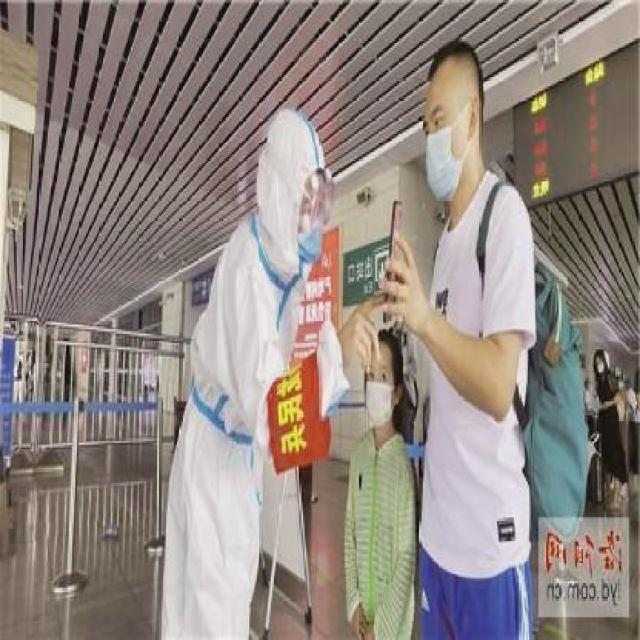face_mask: (410, 82, 476, 206)
glasses: (291, 167, 347, 231)
hand_noglove: (382, 229, 423, 325), (345, 288, 386, 382), (356, 606, 372, 639)
head_nohelmet: (417, 29, 480, 88)
person: (381, 37, 577, 640), (154, 101, 338, 640)
